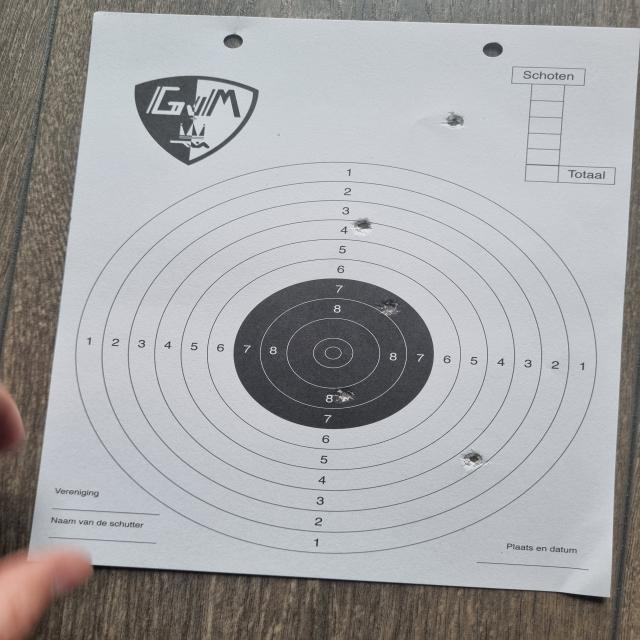0: (440, 111, 468, 129)
3: (458, 449, 487, 470)
4: (352, 217, 375, 234)
8: (377, 300, 400, 316), (332, 388, 354, 402)
Target: (75, 160, 598, 554)
black_contour: (233, 278, 435, 429)
